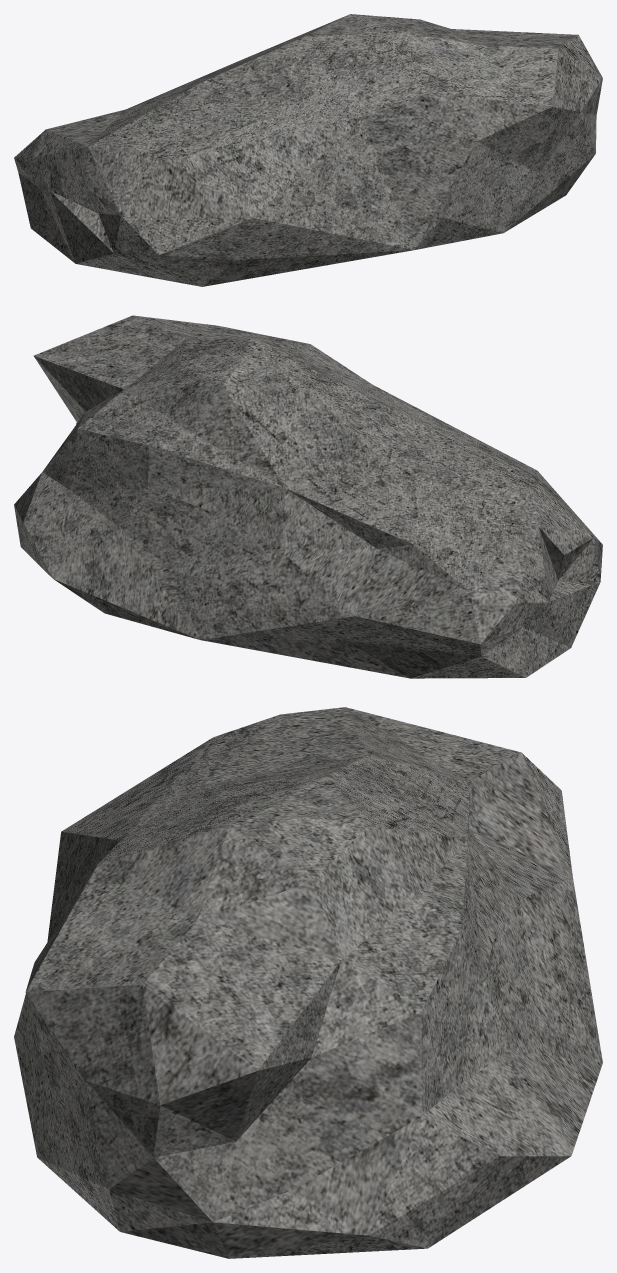
Rendered from roccia_3.fbx.
The picture shows the model from 3 angles, top to bottom: view 1: azimuth 30°, elevation 25°; view 2: azimuth 150°, elevation 25°; view 3: azimuth 270°, elevation 25°; orthographic projection. The views are drawn at different scales.
Parts seen in each view (by area): view 1: roccia_3; view 2: roccia_3; view 3: roccia_3.
Boxes of the visible parts, left/top/right/bottom form: roccia_3: left=14, top=14, right=602, bottom=286; roccia_3: left=14, top=315, right=602, bottom=678; roccia_3: left=14, top=707, right=602, bottom=1258.
Size of the model in its own units: 52.21 by 18.02 by 31.48.
